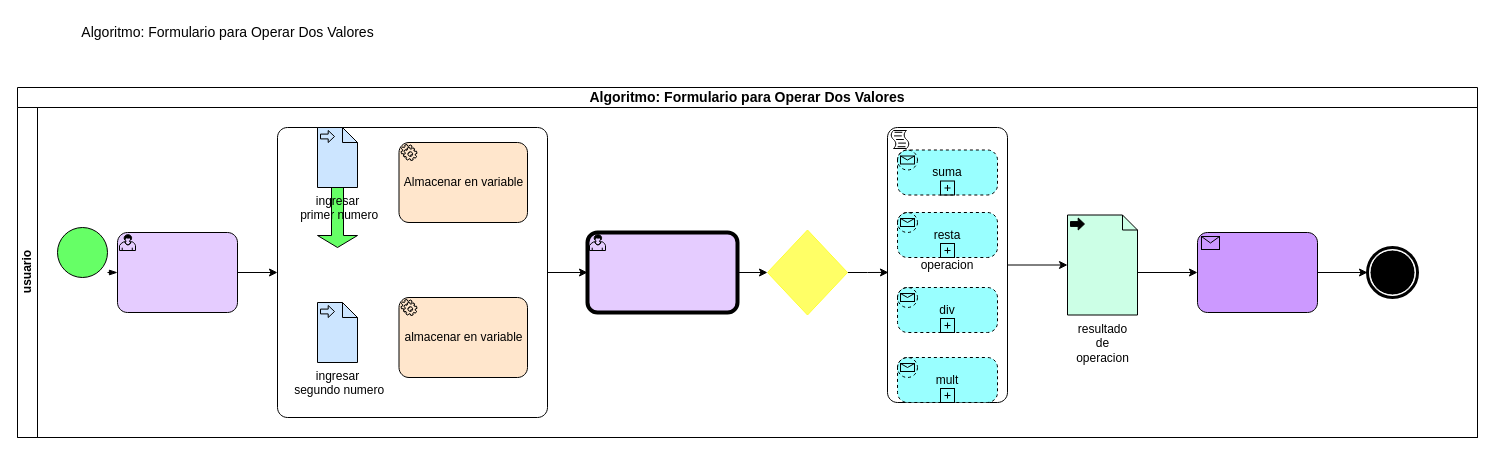
The diagram is 1495 pixels wide and 455 high, and some of its shapes have lost their labels. Here are the shapes that lost their labels. From the top down, the centre of each, then its label:
At [177,272]: "registrar formulario".
At [662,272]: "seleccionar operador".
At [807,272]: "desicion".
At [1257,272]: "notificar resultado de operacion".
